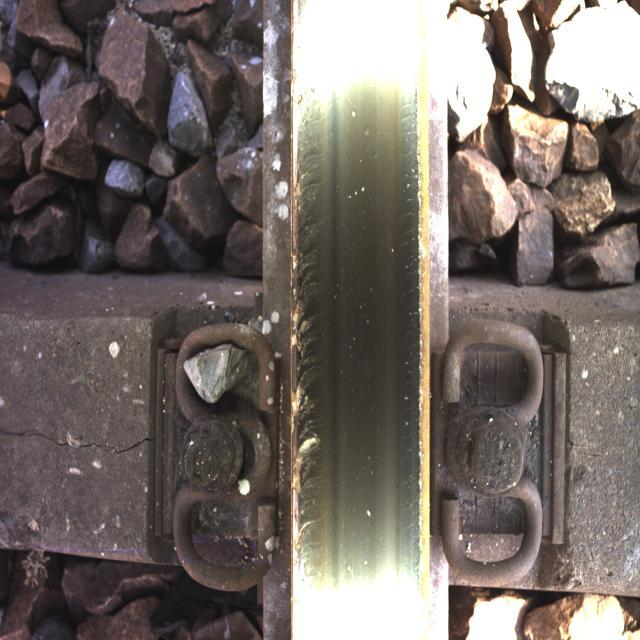crack: (288, 54, 362, 575)
